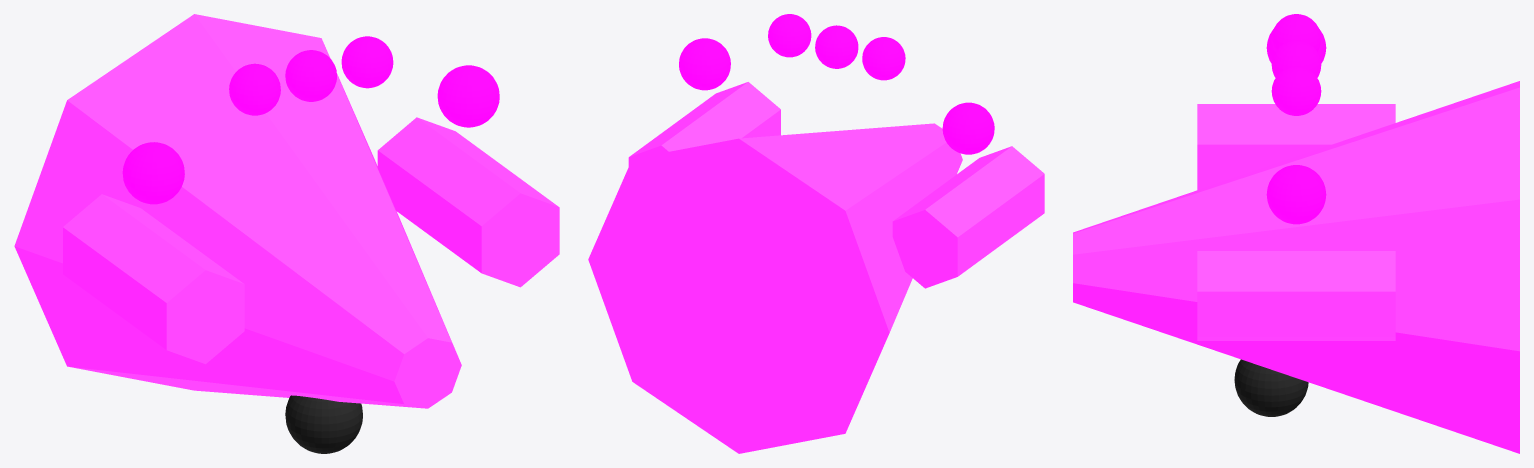
Rendered from enemy_heavy.glb.
The picture shows the model from 3 angles, left to right: view 1: azimuth 30°, elevation 25°; view 2: azimuth 150°, elevation 25°; view 3: azimuth 270°, elevation 25°; orthographic projection. The views are drawn at different scales.
Parts seen in each view (by area): view 1: HvyBody, HvyPod-1, HvyPod1, HvyCockpit, HvyPodEng-1, HvyPodEng1, HvyEng-0.25, HvyEng0, HvyEng0.25; view 2: HvyBody, HvyPod-1, HvyPod1, HvyPodEng-1, HvyPodEng1, HvyEng-0.25, HvyEng0, HvyEng0.25; view 3: HvyBody, HvyPod1, HvyPod-1, HvyCockpit, HvyPodEng1, HvyEng0.25, HvyEng-0.25, HvyEng0.
Part boxes in pixels (x1,y1,x2,y2): HvyBody: [14, 14, 461, 408]; HvyPod-1: [63, 194, 244, 364]; HvyPod1: [377, 117, 559, 287]; HvyCockpit: [285, 395, 362, 453]; HvyPodEng-1: [122, 142, 184, 204]; HvyPodEng1: [437, 65, 499, 127]; HvyEng-0.25: [229, 63, 280, 115]; HvyEng0: [285, 50, 336, 101]; HvyEng0.25: [341, 36, 393, 88]; HvyBody: [588, 123, 962, 453]; HvyPod-1: [892, 146, 1044, 288]; HvyPod1: [628, 82, 780, 166]; HvyPodEng-1: [942, 102, 994, 154]; HvyPodEng1: [679, 38, 730, 90]; HvyEng-0.25: [862, 37, 905, 80]; HvyEng0: [815, 25, 858, 68]; HvyEng0.25: [768, 14, 811, 57]; HvyBody: [1073, 81, 1519, 453]; HvyPod1: [1197, 251, 1395, 340]; HvyPod-1: [1197, 104, 1395, 189]; HvyCockpit: [1234, 359, 1308, 416]; HvyPodEng1: [1266, 165, 1326, 224]; HvyEng0.25: [1271, 66, 1321, 115]; HvyEng-0.25: [1271, 14, 1321, 51]; HvyEng0: [1271, 40, 1321, 77].
Bounding box in the file's own units: 1.75 × 1.8 × 1.8.
